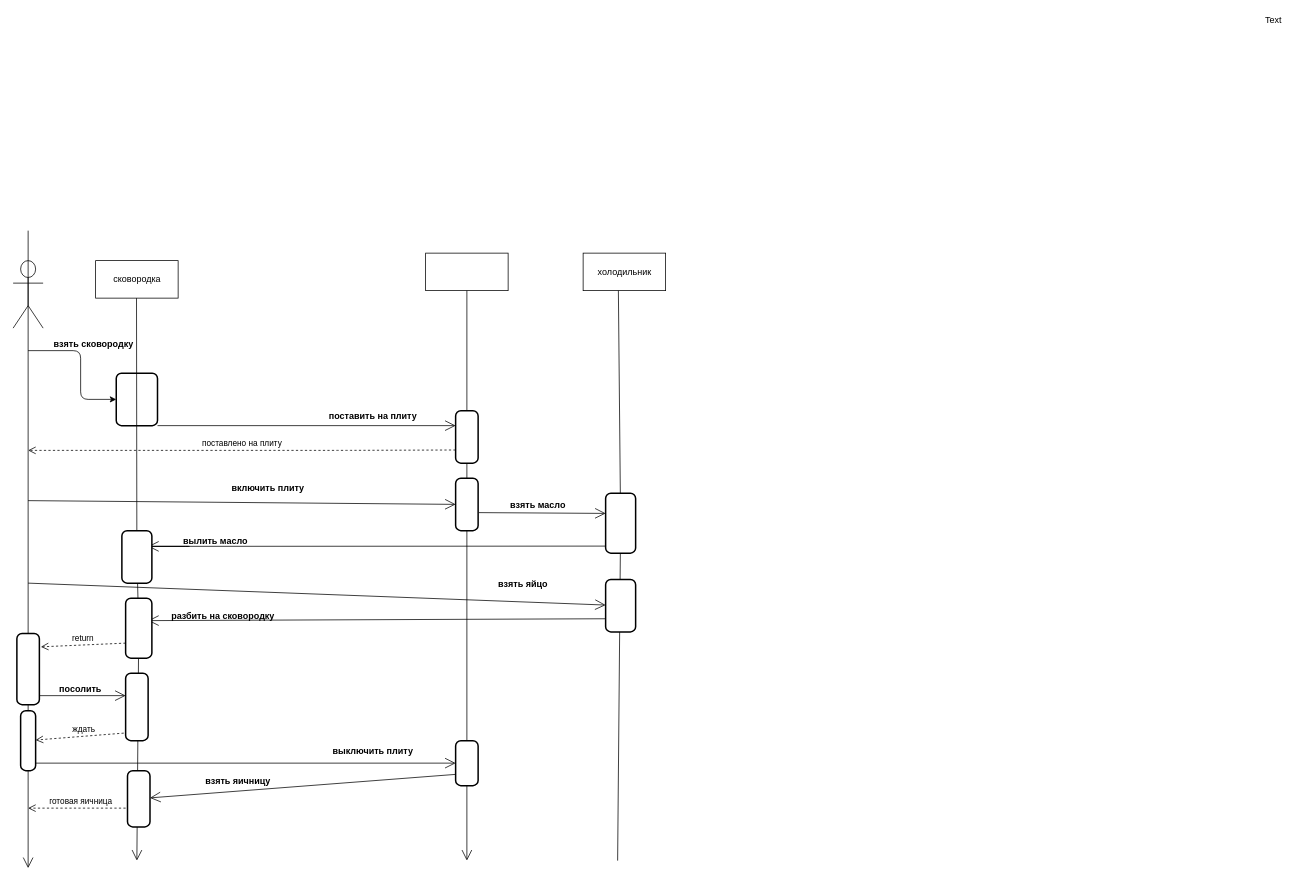
This 1301x892 diagram has some shape labels left out. Each missing label, with the box of its shape:
Actor: (12, 260, 43, 328)
плита: (425, 252, 508, 291)
